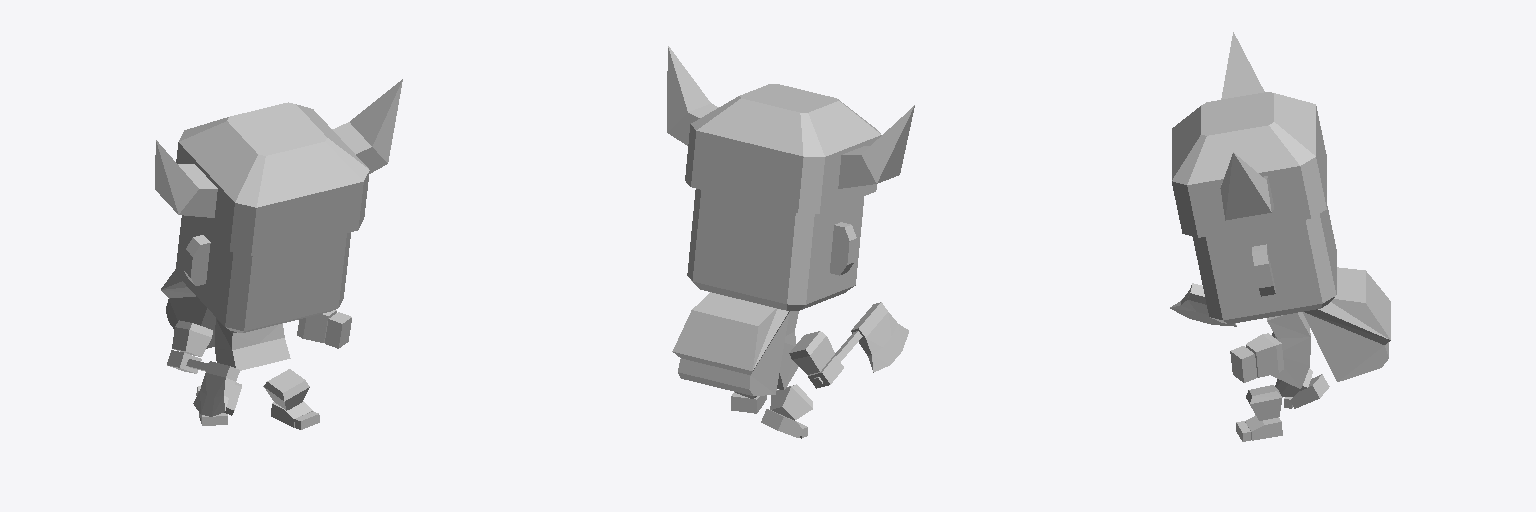
The model's file is mini_knight_000014.obj.
The picture shows the model from 3 angles: view 1: azimuth 30°, elevation 25°; view 2: azimuth 150°, elevation 25°; view 3: azimuth 270°, elevation 25°; orthographic projection.
Visible parts, largest first — view 1: cap_Object01_Material__3, Mesh_objheadusOBJexport_Material, axe_Object02_Material__3, back_Object03_Material__3; view 2: cap_Object01_Material__3, Mesh_objheadusOBJexport_Material, back_Object03_Material__3, axe_Object02_Material__3; view 3: cap_Object01_Material__3, Mesh_objheadusOBJexport_Material, back_Object03_Material__3, axe_Object02_Material__3.
Part boxes in pixels (bbox=[...]): cap_Object01_Material__3: bbox=[155, 79, 402, 255]; Mesh_objheadusOBJexport_Material: bbox=[167, 215, 351, 429]; axe_Object02_Material__3: bbox=[186, 359, 239, 416]; back_Object03_Material__3: bbox=[161, 269, 215, 348]; cap_Object01_Material__3: bbox=[667, 46, 914, 213]; Mesh_objheadusOBJexport_Material: bbox=[687, 189, 863, 438]; back_Object03_Material__3: bbox=[672, 292, 789, 395]; axe_Object02_Material__3: bbox=[813, 302, 908, 384]; cap_Object01_Material__3: bbox=[1172, 32, 1326, 237]; Mesh_objheadusOBJexport_Material: bbox=[1193, 206, 1336, 441]; back_Object03_Material__3: bbox=[1303, 267, 1390, 381]; axe_Object02_Material__3: bbox=[1170, 283, 1236, 326].
Bounding box in the file's own units: 1.94 × 2.46 × 1.51.